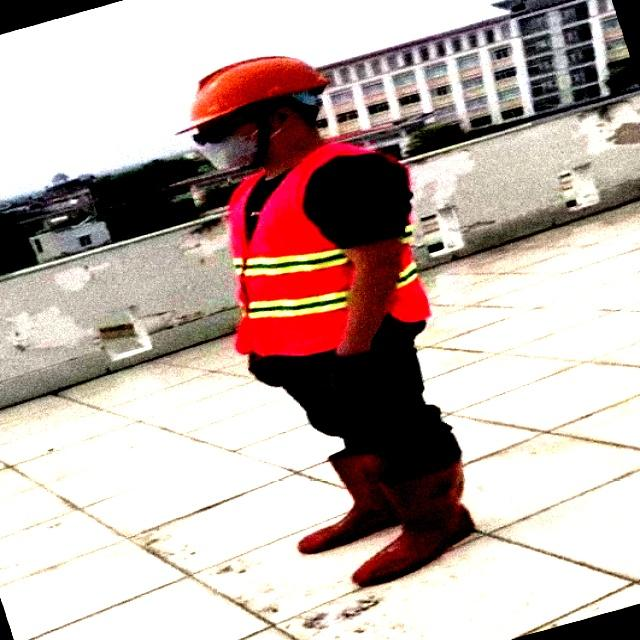Capacete: (176, 56, 328, 134)
Colete: (229, 143, 373, 355)
Oculos: (192, 120, 246, 146)
Pessoa: (179, 57, 473, 585)
